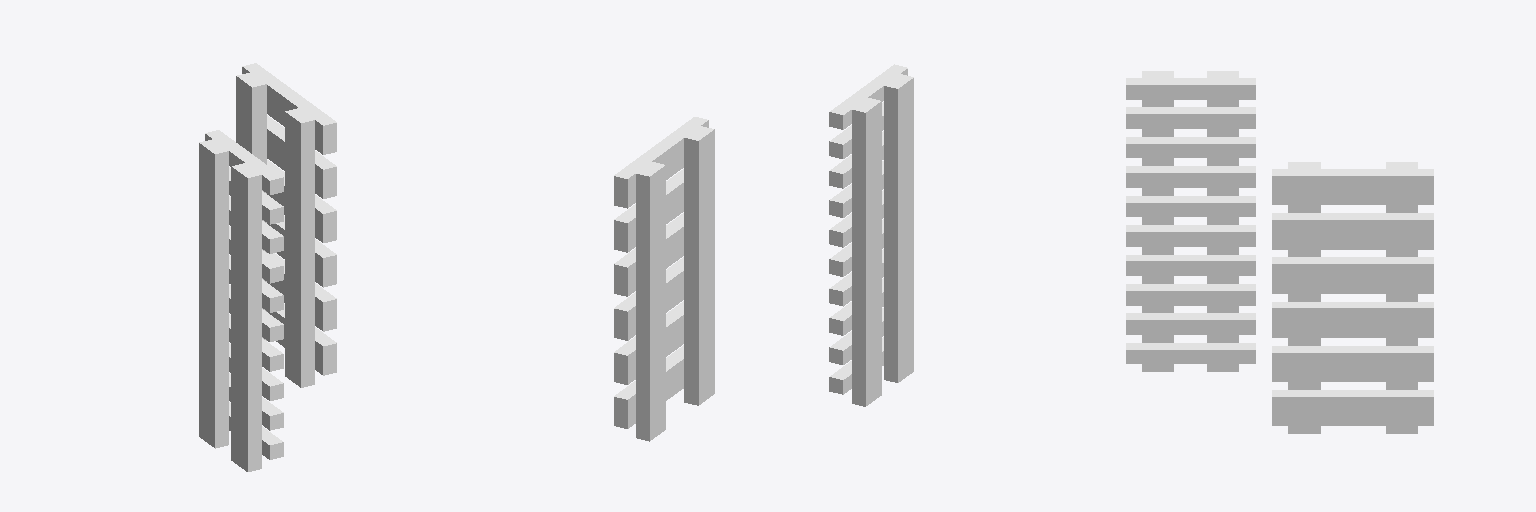
The model's file is assets01_copia03-2.obj.
3 renders of one model, left to right at view 1: azimuth 30°, elevation 25°; view 2: azimuth 150°, elevation 25°; view 3: azimuth 270°, elevation 25°, orthographic.
Parts seen in each view (by area): view 1: object 1; view 2: object 1; view 3: object 1.
Part boxes in pixels (left/top/right/bottom): object 1: left=199, top=63, right=336, bottom=471; object 1: left=614, top=64, right=913, bottom=441; object 1: left=1126, top=71, right=1433, bottom=433.
Size of the model in its own units: 1.1 by 2 by 1.9.